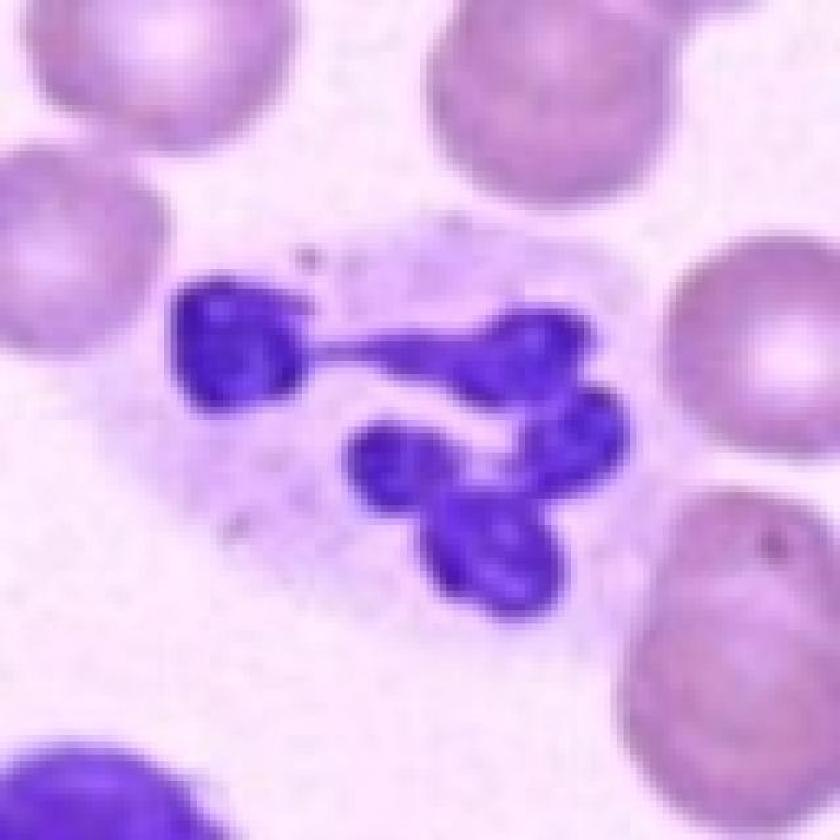neutrophil: (68, 207, 709, 663)
